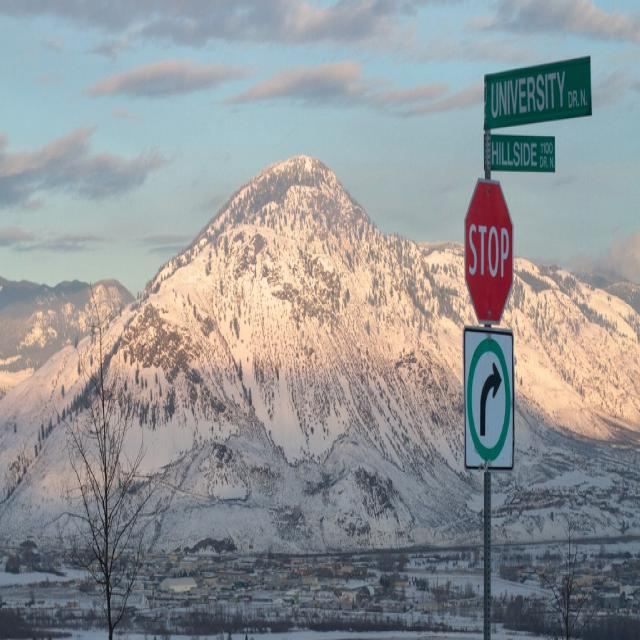Stop-sign: (463, 178, 514, 326)
